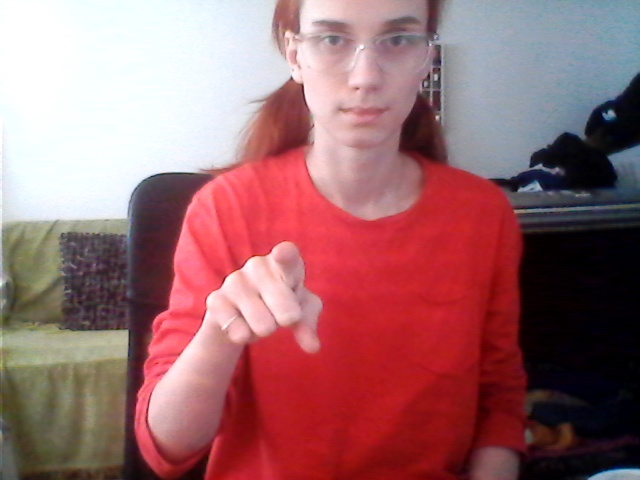ty: (198, 230, 335, 361)
